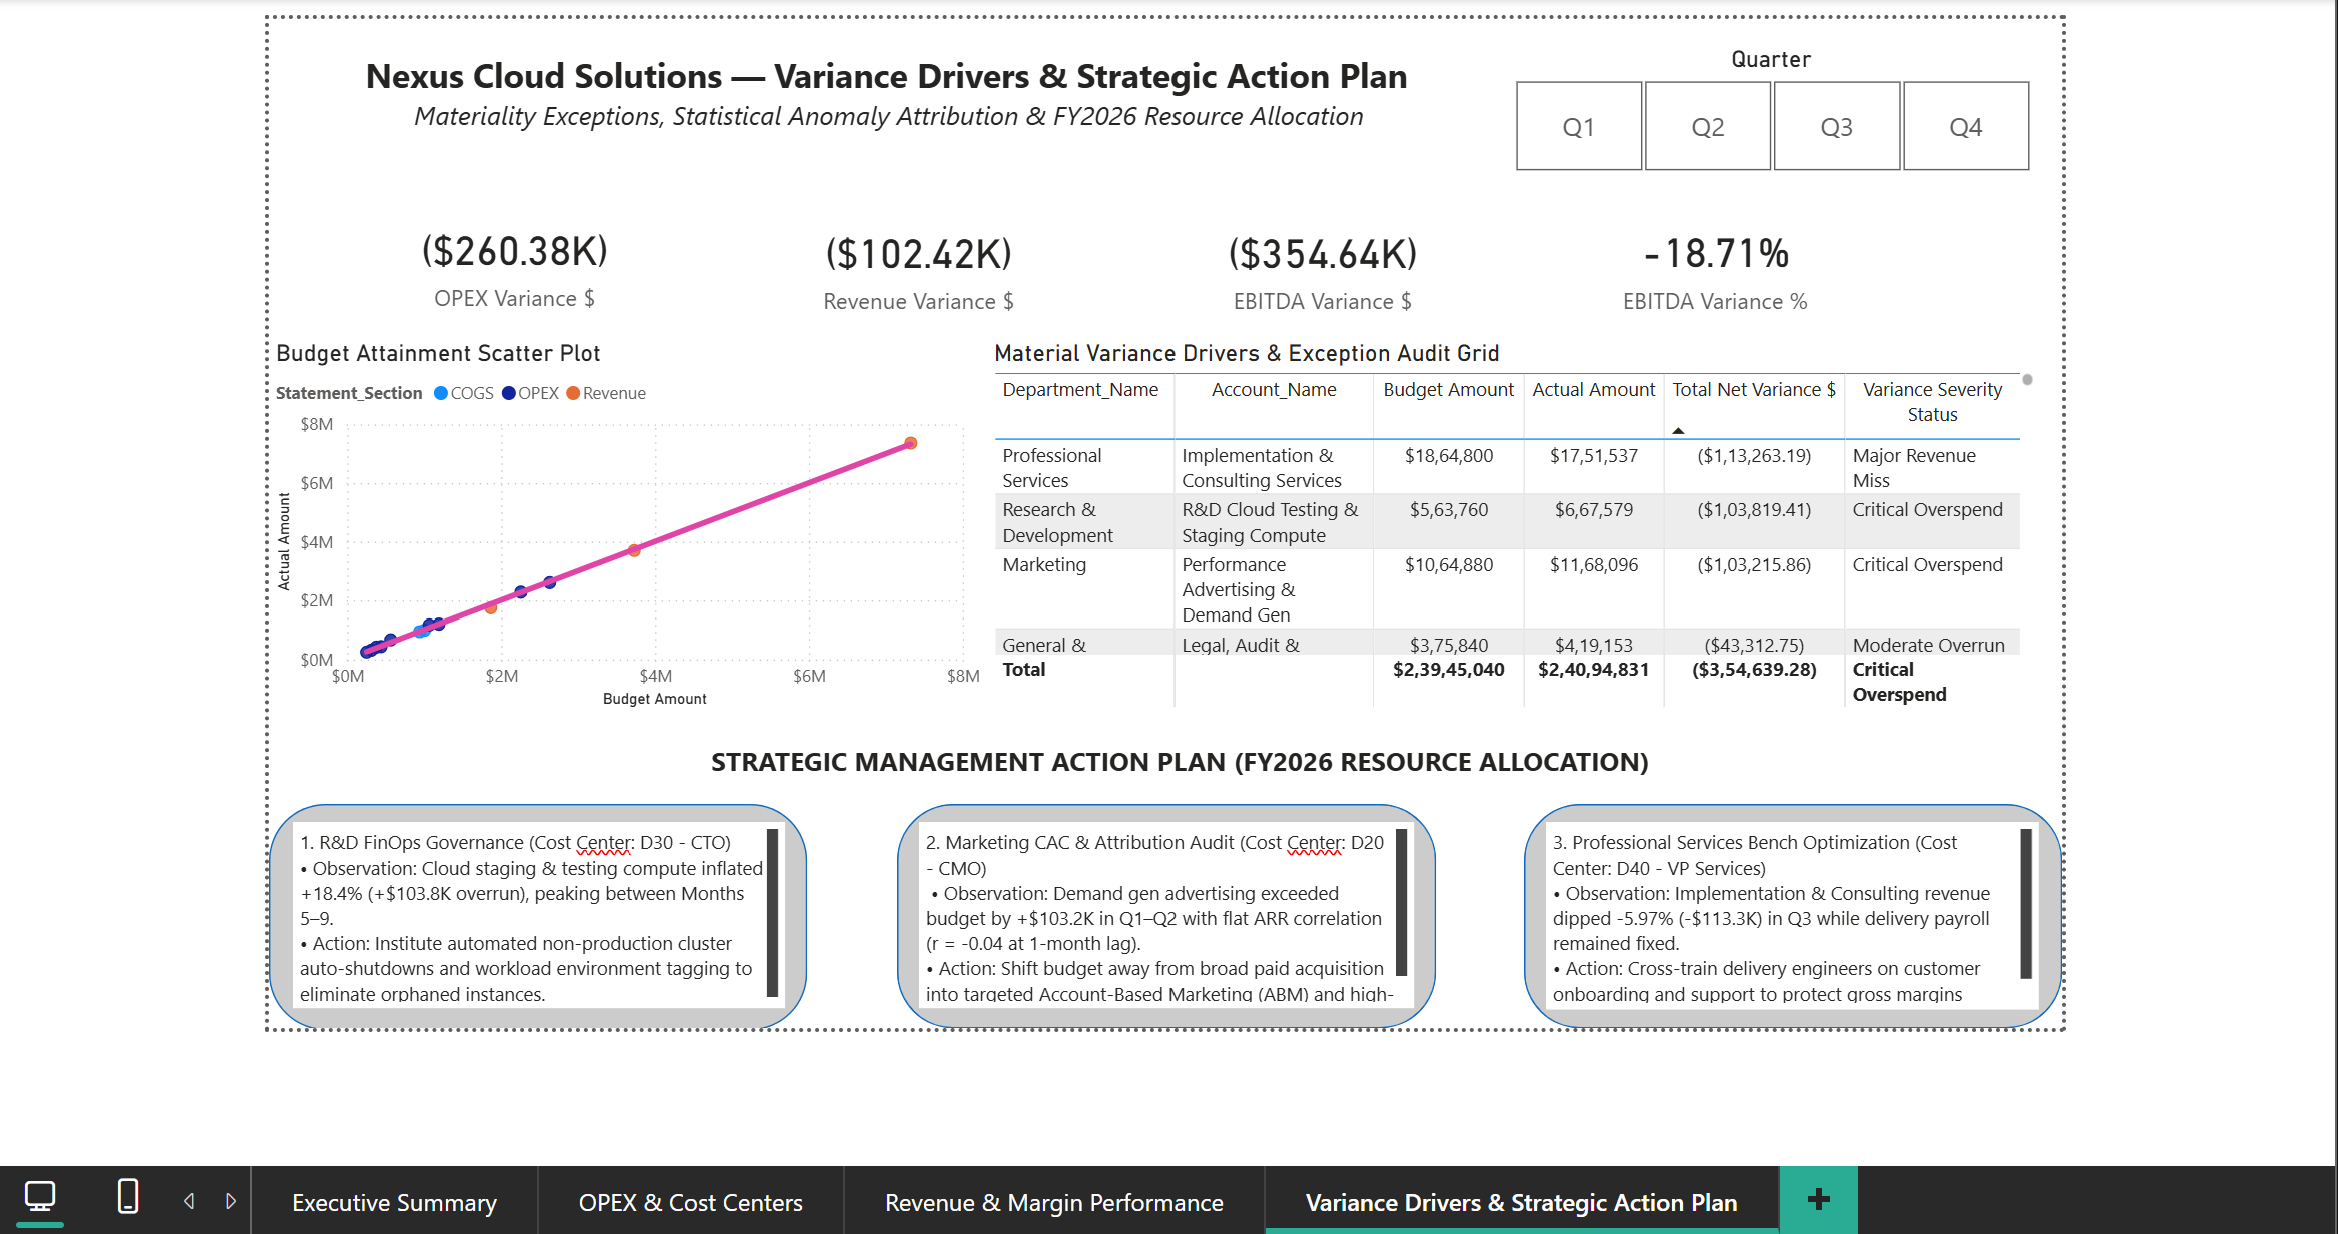

What the dashboard file says about the page in this screenshot:
{"tool":"powerbi","page":{"name":"Variance Drivers & Strategic Action Plan","canvas":[1280,720],"ordinal":3},"visuals":[{"type":"textbox","box":[17.3,19.1,847.3,96.4],"z":0},{"type":"slicer","title":"Quarter","fields":{"Values":["Dim_Date.Quarter"]},"box":[863.6,19.1,416.4,96.4],"z":1000},{"type":"scatterChart","title":"Budget Attainment Scatter Plot","fields":{"Category":["Dim_Account.Account_Name"],"X":["_Measures.Budget Amount"],"Y":["_Measures.Actual Amount"],"Series":["Dim_Account.Statement_Section"]},"box":[0,228.9,512.5,267.3],"z":2000},{"type":"tableEx","title":"Material Variance Drivers & Exception Audit Grid","fields":{"Values":["Dim_Department.Department_Name","Dim_Account.Account_Name","_Measures.Budget Amount","_Measures.Actual Amount","_Measures.Total Net Variance $","_Measures.Variance Severity Status"]},"box":[512.5,228.9,751.8,267.3],"z":3000},{"type":"card","fields":{"Values":["_Measures.OPEX Variance $"]},"box":[31.7,133.3,288.3,83.3],"z":4000},{"type":"card","fields":{"Values":["_Measures.Revenue Variance $"]},"box":[320,135,288.3,81.7],"z":5000},{"type":"card","fields":{"Values":["_Measures.EBITDA Variance $"]},"box":[608.2,135.5,287.3,81.8],"z":6000},{"type":"card","fields":{"Values":["_Measures.EBITDA Variance %"]},"box":[895.5,136.4,273.6,80.9],"z":7000},{"type":"shape","box":[0,559.7,384.4,161.5],"z":8000},{"type":"shape","box":[448.3,559.7,384.4,160.3],"z":9000},{"type":"shape","box":[895.3,559.7,384.4,160.3],"z":10000},{"type":"textbox","box":[17.1,572.9,351.4,132.9],"z":11000},{"type":"textbox","box":[464.3,572.9,352.9,132.9],"z":12000},{"type":"textbox","box":[911.6,573.5,351.9,134],"z":13000},{"type":"textbox","box":[240.4,510.9,821.4,35.1],"z":14000}]}

Visuals, with their boxes on the page's 1280x720 design canvas (x1, y1, x2, y2). These are canvas units, not pixel positions in the 2338x1234 screenshot, which may show the page scaled, cropped or inside an application window:
textbox: l=17, t=19, r=865, b=116
"Quarter" slicer: l=864, t=19, r=1280, b=116
"Budget Attainment Scatter Plot" scatterChart: l=0, t=229, r=512, b=496
"Material Variance Drivers & Exception Audit Grid" tableEx: l=512, t=229, r=1264, b=496
card - _Measures.OPEX Variance $: l=32, t=133, r=320, b=217
card - _Measures.Revenue Variance $: l=320, t=135, r=608, b=217
card - _Measures.EBITDA Variance $: l=608, t=136, r=896, b=217
card - _Measures.EBITDA Variance %: l=896, t=136, r=1169, b=217
shape: l=0, t=560, r=384, b=721
shape: l=448, t=560, r=833, b=720
shape: l=895, t=560, r=1280, b=720
textbox: l=17, t=573, r=368, b=706
textbox: l=464, t=573, r=817, b=706
textbox: l=912, t=574, r=1264, b=708
textbox: l=240, t=511, r=1062, b=546
